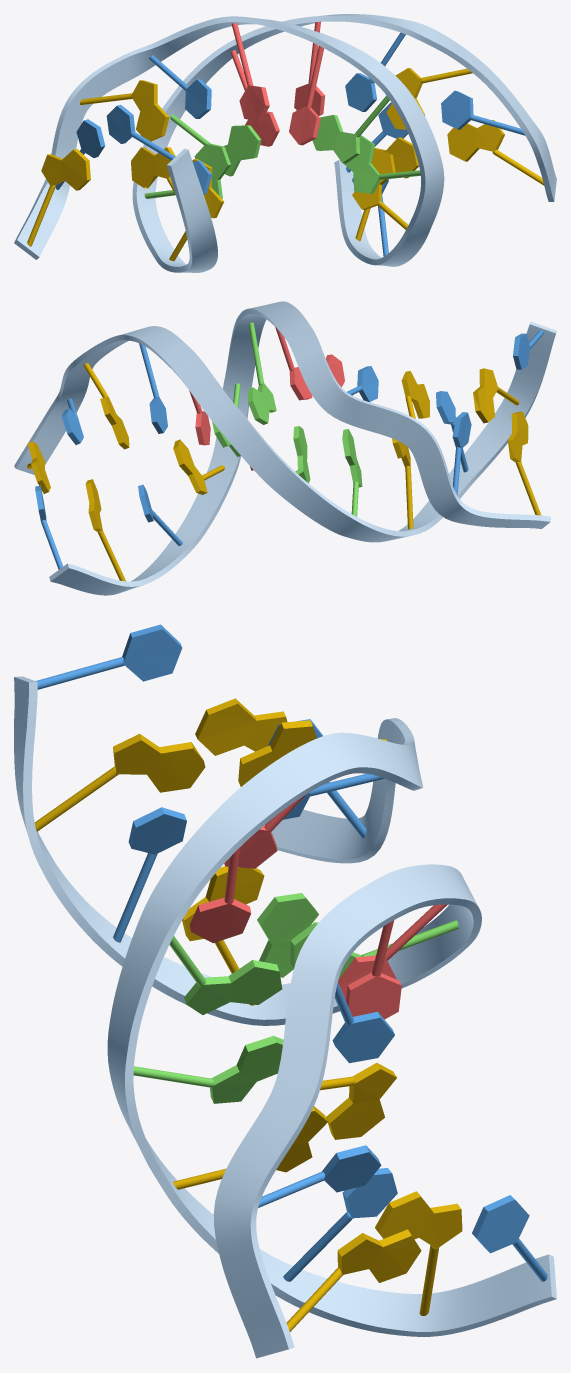
The model's file is Metallic_1BNA_3.0.glb.
3 views of the same model, one above another, from view 1: azimuth 30°, elevation 25°; view 2: azimuth 150°, elevation 25°; view 3: azimuth 270°, elevation 25° (orthographic). The views are drawn at different scales.
Visible parts, largest first — view 1: Backbone_Left, Backbone_Right, G1, G1b, G3b, A7b, A7, A8B, C2, T6b, T5b, G11 (+14 smaller); view 2: Backbone_Left, Backbone_Right, A7b, G11, G1b, G9b, G3b, G11b, G3, C4, C2b, A8 (+12 smaller); view 3: Backbone_Left, Backbone_Right, G11, G11b, G1, A7b, A8B, G3, C12, G1b, C10, A8 (+13 smaller).
Boxes of the visible parts, left/top/right/bottom form: Backbone_Left: left=14, top=16, right=444, bottom=266; Backbone_Right: left=132, top=14, right=556, bottom=272; G1: left=447, top=120, right=544, bottom=185; G1b: left=27, top=149, right=90, bottom=246; G3b: left=80, top=80, right=169, bottom=141; A7b: left=312, top=95, right=389, bottom=163; A7: left=170, top=114, right=261, bottom=176; A8B: left=340, top=135, right=420, bottom=193; C2: left=441, top=90, right=524, bottom=135; T6b: left=289, top=46, right=323, bottom=145; T5b: left=231, top=23, right=269, bottom=121; G11: left=131, top=147, right=175, bottom=194; Backbone_Left: left=49, top=301, right=550, bottom=595; Backbone_Right: left=14, top=321, right=556, bottom=542; A7b: left=248, top=322, right=276, bottom=424; G11: left=473, top=368, right=519, bottom=423; G1b: left=508, top=411, right=541, bottom=515; G9b: left=173, top=439, right=224, bottom=494; G3b: left=401, top=371, right=429, bottom=418; G11b: left=85, top=479, right=125, bottom=581; G3: left=83, top=363, right=129, bottom=449; C4: left=139, top=343, right=167, bottom=433; C2b: left=452, top=412, right=471, bottom=495; A8: left=342, top=429, right=362, bottom=516; Backbone_Left: left=107, top=718, right=556, bottom=1336; Backbone_Right: left=14, top=676, right=481, bottom=1358; G11: left=34, top=733, right=205, bottom=831; G11b: left=375, top=1191, right=462, bottom=1315; G1: left=286, top=1229, right=421, bottom=1331; A7b: left=169, top=936, right=282, bottom=1014; A8B: left=133, top=1035, right=283, bottom=1103; G3: left=320, top=1062, right=396, bottom=1139; C12: left=36, top=624, right=182, bottom=689; G1b: left=195, top=698, right=287, bottom=755; C10: left=113, top=807, right=186, bottom=942; A8: left=257, top=893, right=318, bottom=977.
Bounding box in the file's own units: 44.11 × 22.87 × 23.76.
